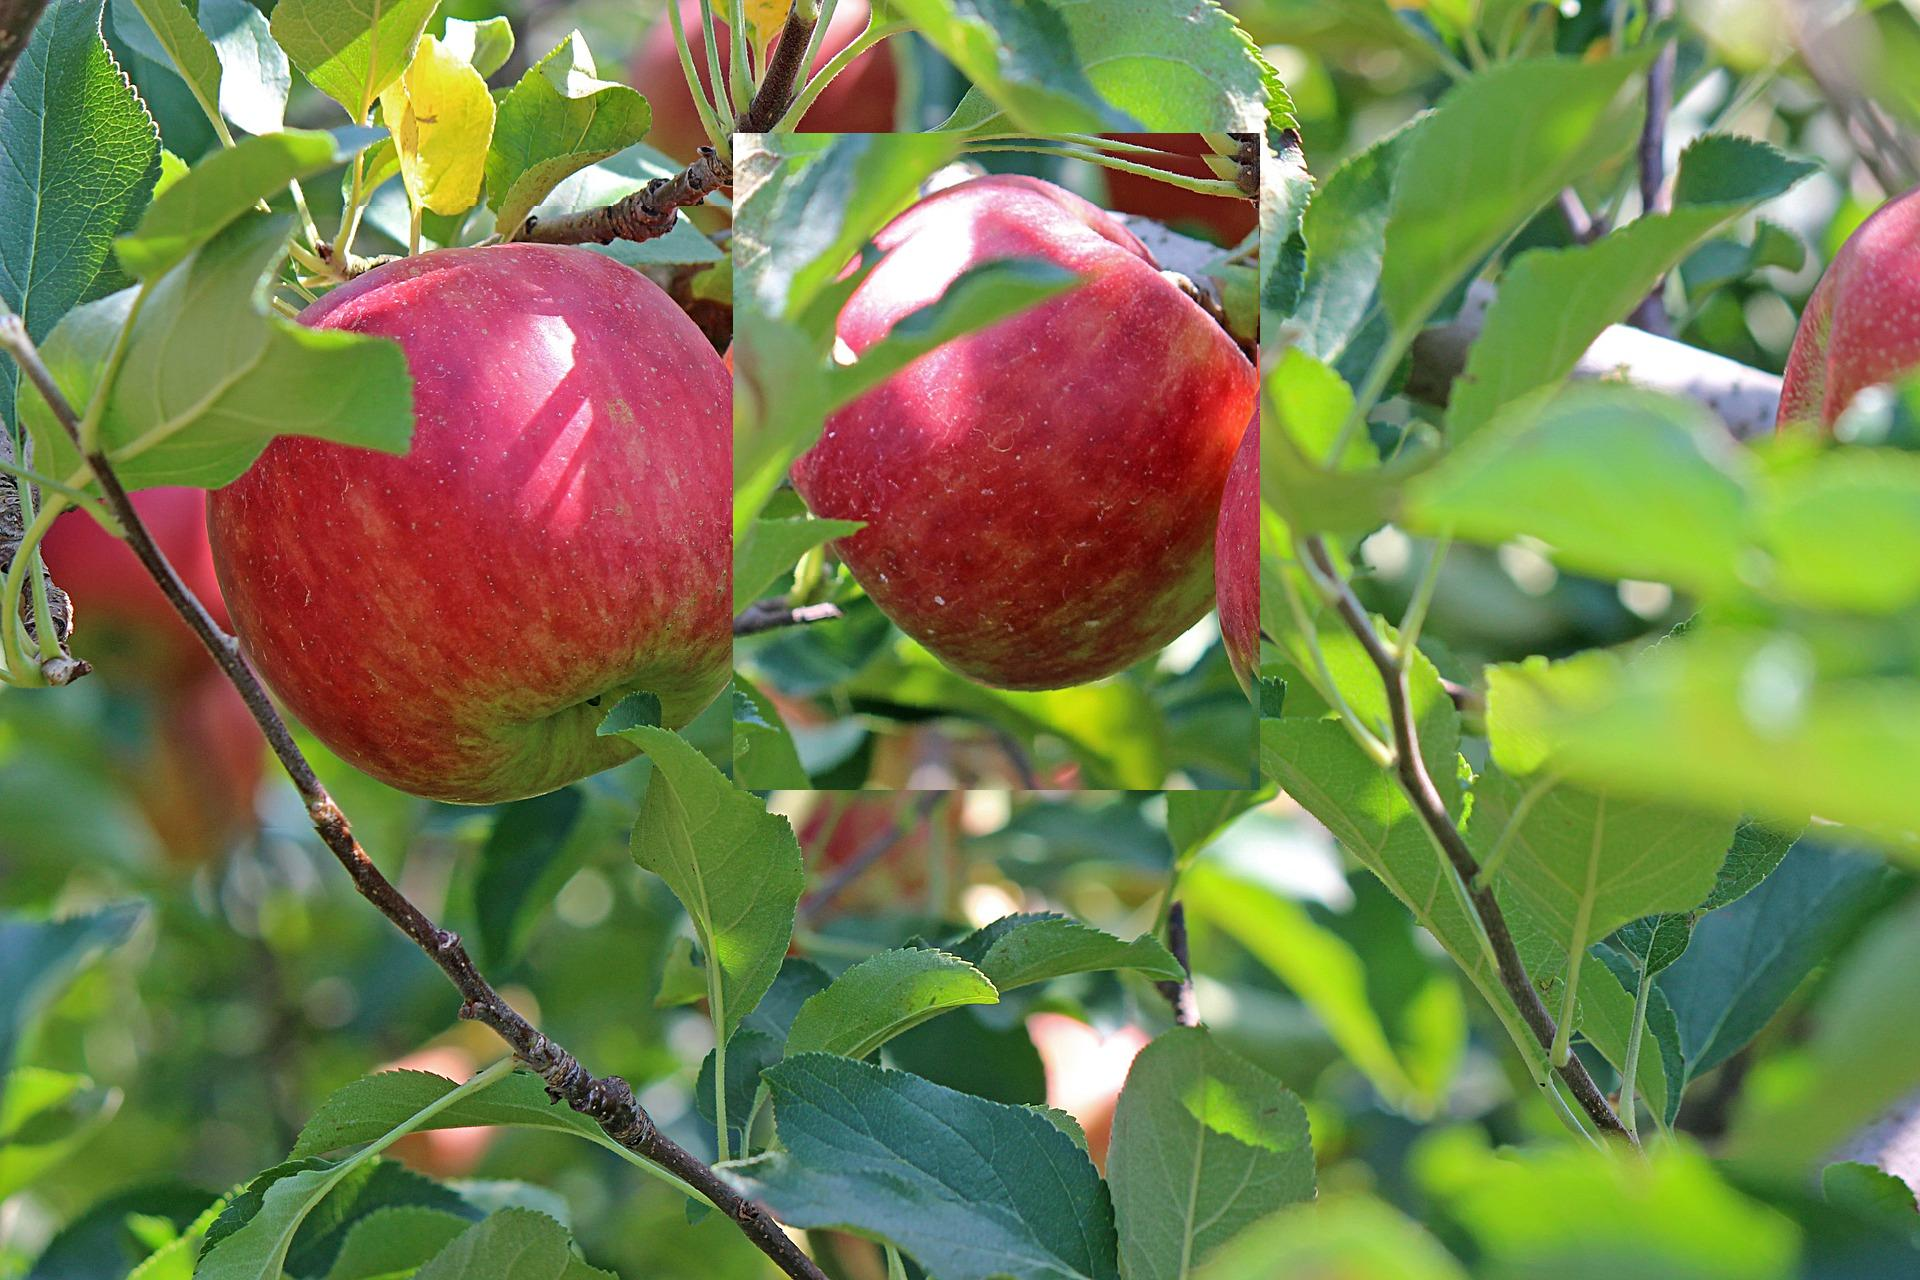Apple Fresh: (187, 207, 767, 830), (733, 133, 1260, 790)
